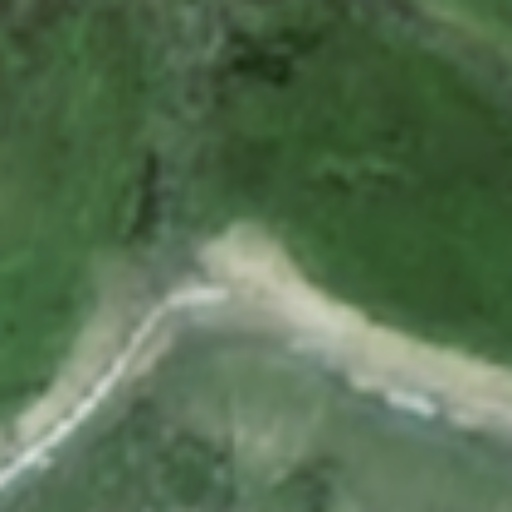landslide: (193, 220, 309, 286)
